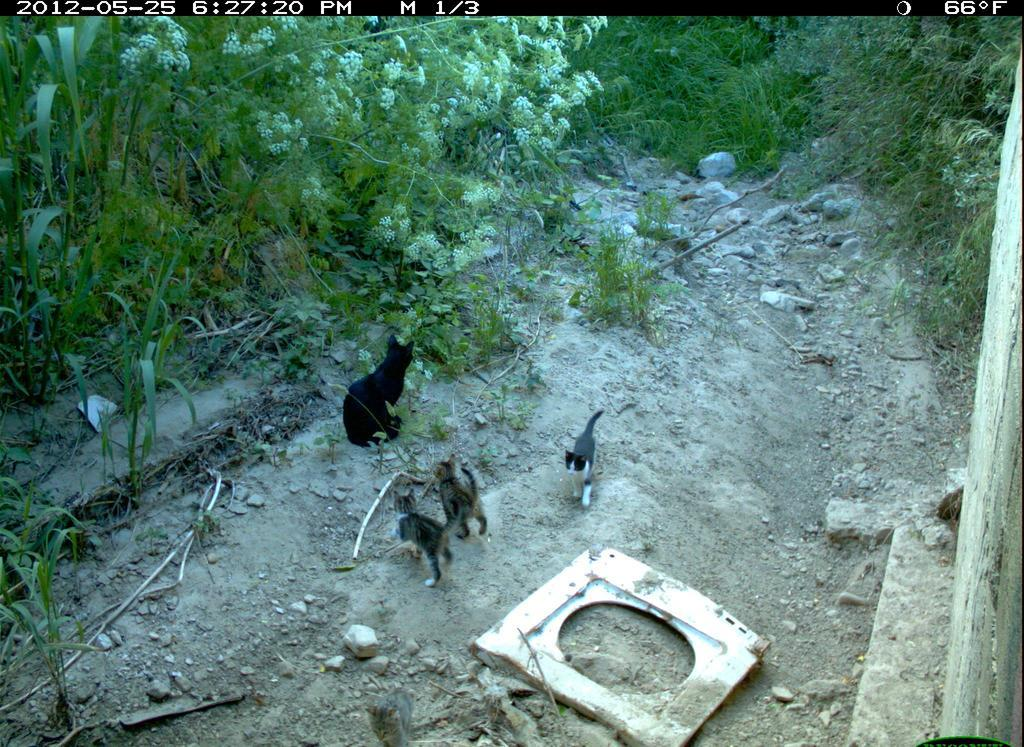cat: (338, 329, 425, 455), (391, 482, 465, 582), (559, 410, 619, 518), (434, 452, 498, 541)
